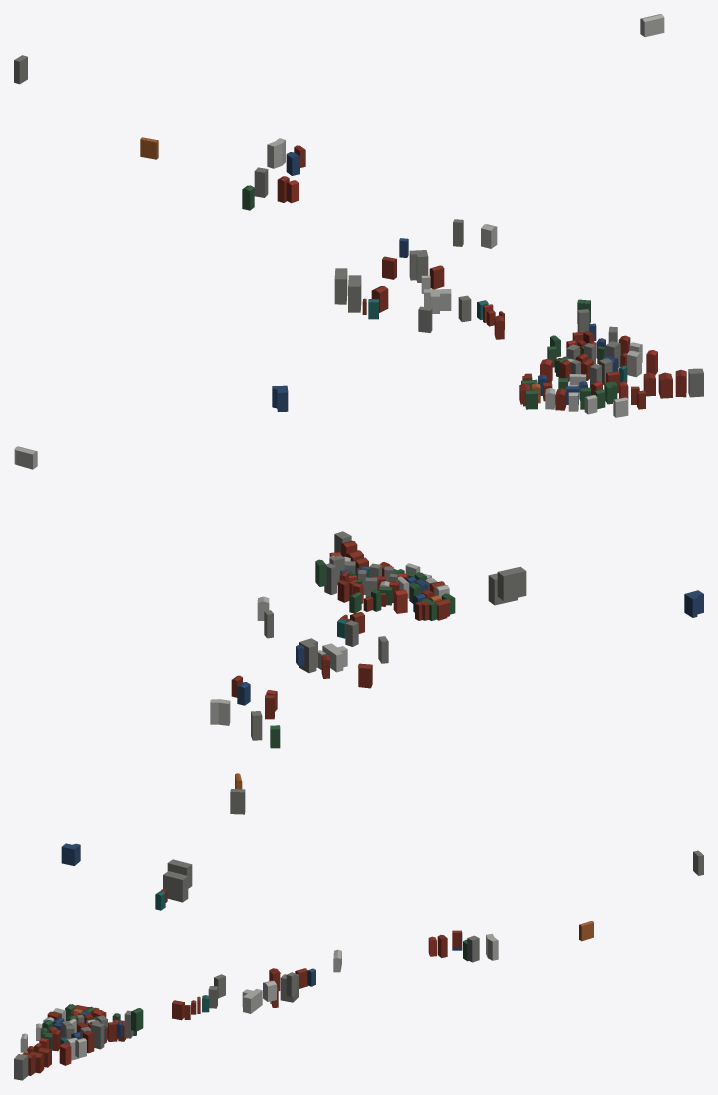
Rendered from near-15-27366-14869.3c81b091.glb.
3 views of the same model, one above another, from view 1: azimuth 30°, elevation 25°; view 2: azimuth 150°, elevation 25°; view 3: azimuth 270°, elevation 25° (orthographic). The views are drawn at different scales.
Size of the model in its own units: 600 by 229 by 764.
